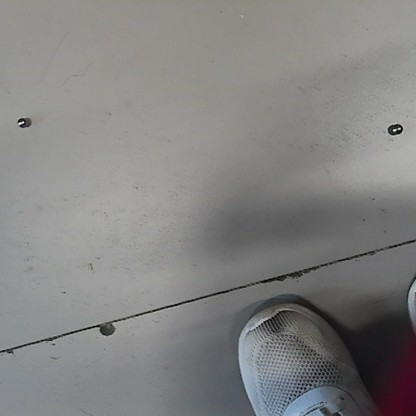ironball: (387, 120, 403, 138), (14, 113, 29, 131)
